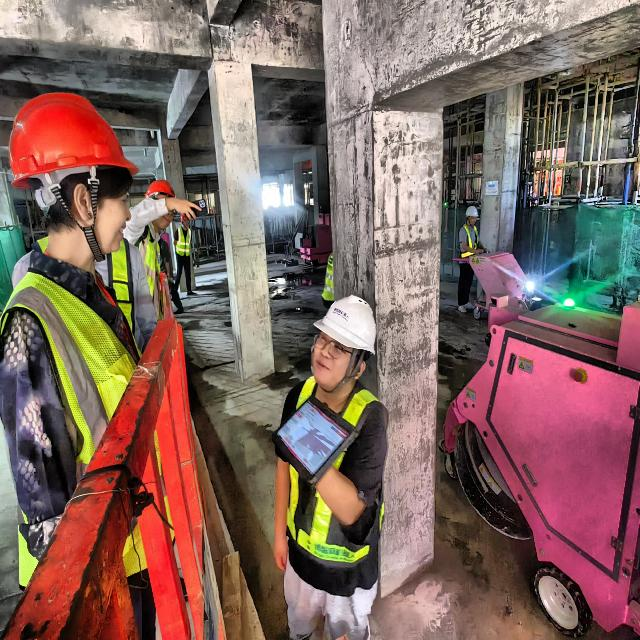safety_helmet: (7, 90, 142, 192), (307, 287, 393, 360), (135, 174, 197, 220)
safety_jacket: (5, 272, 173, 602), (279, 376, 387, 573), (174, 220, 202, 264)
